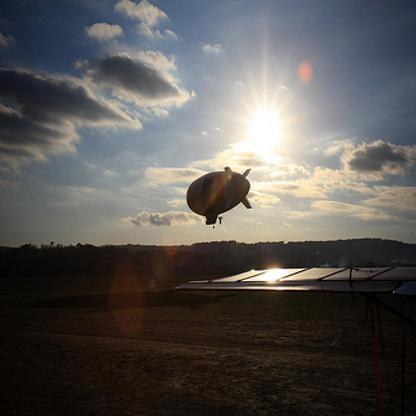Airship: (185, 166, 254, 229)
